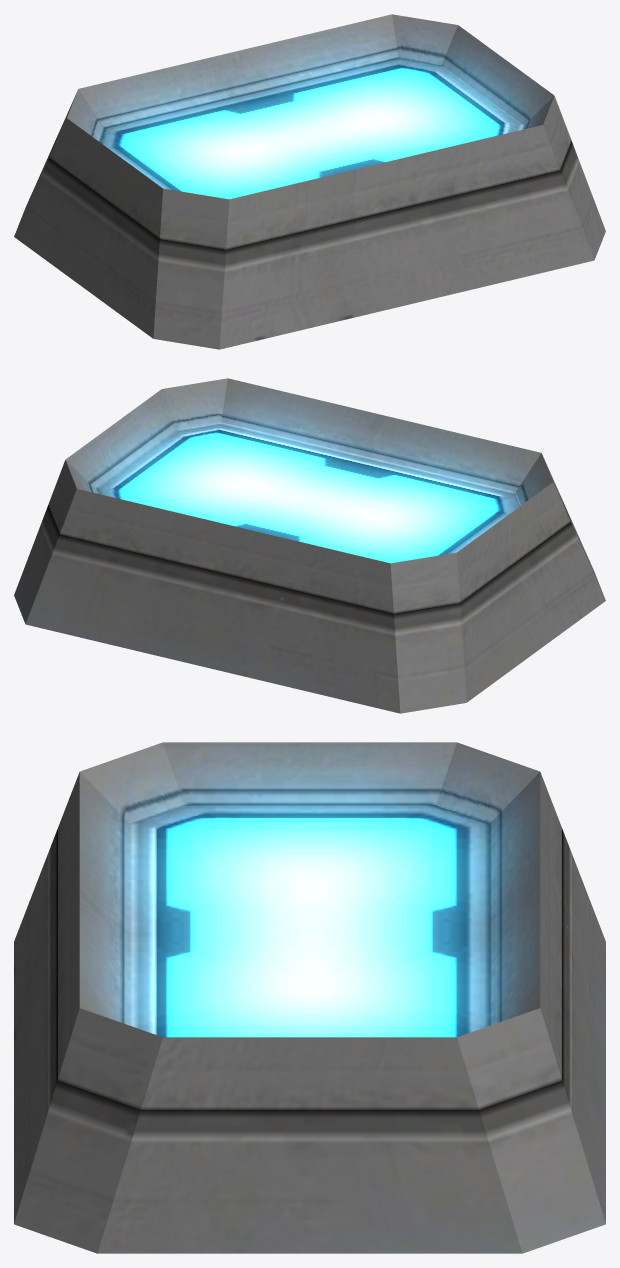
The model's file is DeathEggWeakSpot.glb.
The picture shows the model from 3 angles, top to bottom: view 1: azimuth 30°, elevation 25°; view 2: azimuth 150°, elevation 25°; view 3: azimuth 270°, elevation 25°; orthographic projection. The views are drawn at different scales.
Parts seen in each view (by area): view 1: DeathEggBlueOneLight-col.002; view 2: DeathEggBlueOneLight-col.002; view 3: DeathEggBlueOneLight-col.002.
Part boxes in pixels (left/top/right/bottom): DeathEggBlueOneLight-col.002: left=14, top=14, right=605, bottom=349; DeathEggBlueOneLight-col.002: left=14, top=378, right=605, bottom=713; DeathEggBlueOneLight-col.002: left=14, top=742, right=605, bottom=1253.
Size of the model in its own units: 7.17 by 1.96 by 5.32.
1 material, 1 textured.
